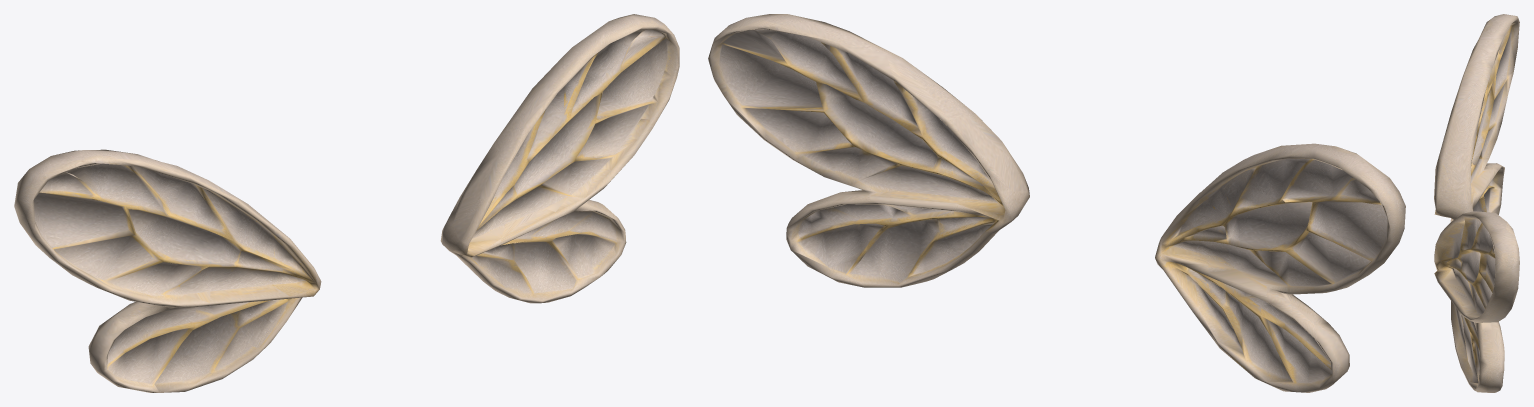
File: wings.fbx
3 views of the same model, side by side, from view 1: azimuth 30°, elevation 25°; view 2: azimuth 150°, elevation 25°; view 3: azimuth 270°, elevation 25° (orthographic). The views are drawn at different scales.
Parts seen in each view (by area): view 1: wings; view 2: wings; view 3: wings.
Boxes of the visible parts, x1=… form: wings: x1=14, y1=14, x2=679, y2=392; wings: x1=708, y1=14, x2=1405, y2=392; wings: x1=1434, y1=14, x2=1519, y2=392.
Size of the model in its own units: 101 by 36.25 by 14.93.
1 material, 1 textured.
